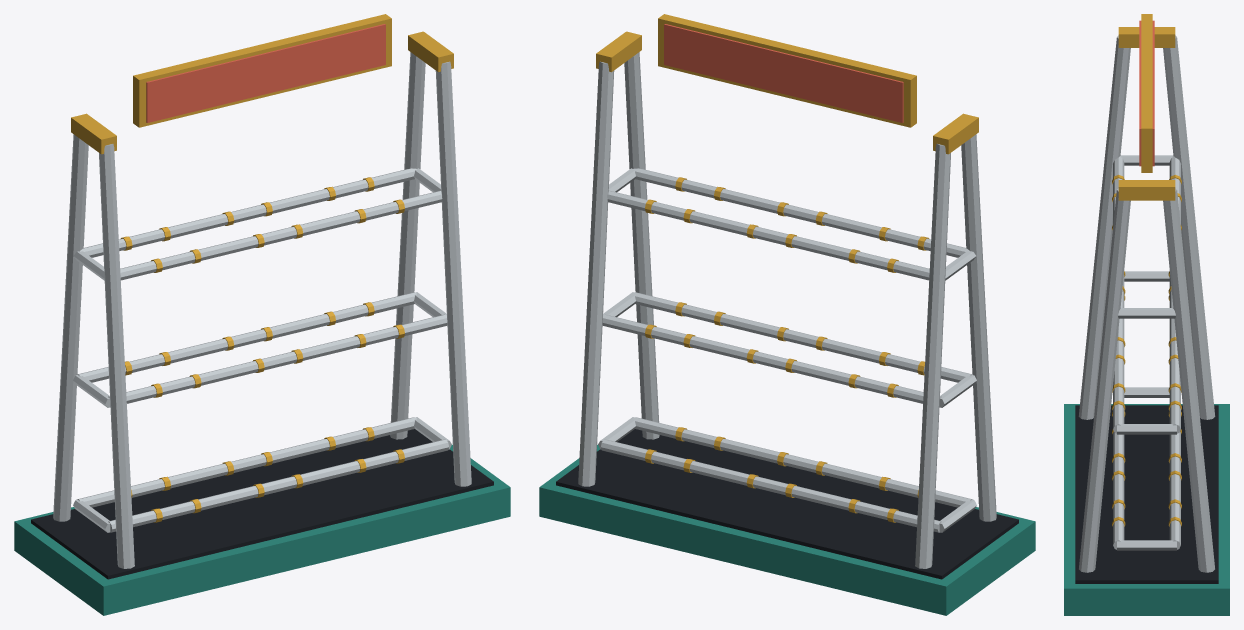
The model's file is cozy_bowling_ball_rack_empty.glb.
3 renders of one model, left to right at view 1: azimuth 30°, elevation 25°; view 2: azimuth 150°, elevation 25°; view 3: azimuth 270°, elevation 25°, orthographic. The views are drawn at different scales.
Parts seen in each view (by area): view 1: BallRack_Empty_Mesh; view 2: BallRack_Empty_Mesh; view 3: BallRack_Empty_Mesh.
Boxes of the visible parts, x1=… form: BallRack_Empty_Mesh: x1=14, y1=14, x2=510, y2=615; BallRack_Empty_Mesh: x1=539, y1=14, x2=1035, y2=615; BallRack_Empty_Mesh: x1=1064, y1=14, x2=1229, y2=615.
Size of the model in its own units: 1.16 by 1.33 by 0.44.
